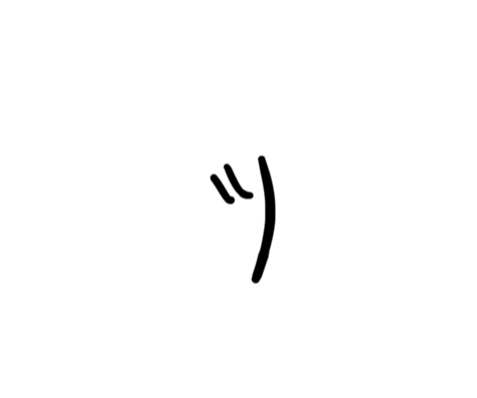tsu: (188, 150, 286, 294)
